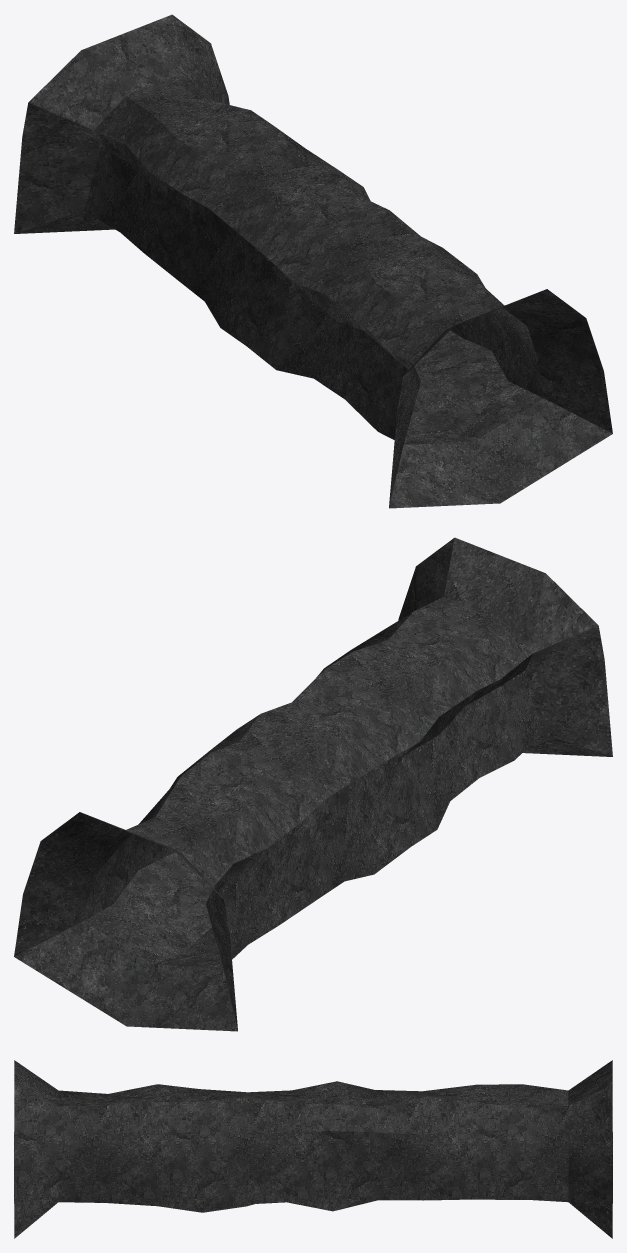
File: CaveCrawlspaceTunnel.glb
The picture shows the model from 3 angles, top to bottom: view 1: azimuth 30°, elevation 25°; view 2: azimuth 150°, elevation 25°; view 3: azimuth 270°, elevation 25°; orthographic projection. The views are drawn at different scales.
Parts seen in each view (by area): view 1: Cube.134; view 2: Cube.134; view 3: Cube.134.
Boxes of the visible parts, box(x1,y1,x2,y2) form: Cube.134: box(14, 14, 612, 508); Cube.134: box(14, 537, 612, 1031); Cube.134: box(14, 1060, 612, 1238).
Size of the model in its own units: 4.62 by 4 by 13.4.
Materials: 1 (1 with a texture image).
